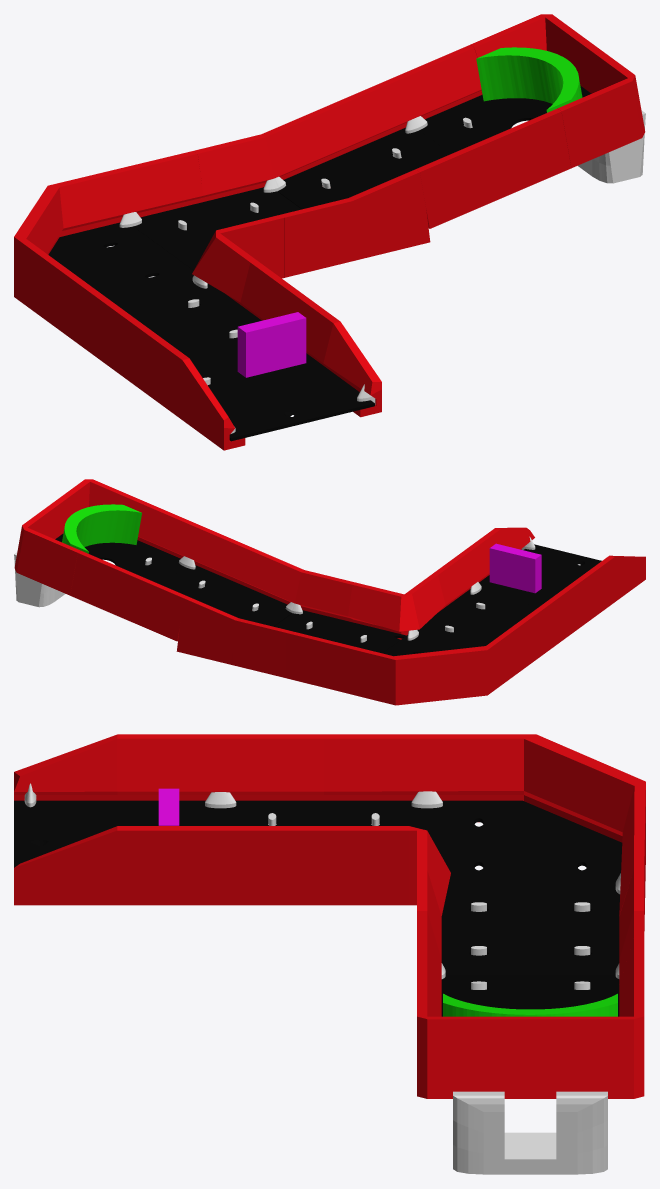
File: mikrogolf-rata4.fbx
3 renders of one model, top to bottom at view 1: azimuth 30°, elevation 25°; view 2: azimuth 150°, elevation 25°; view 3: azimuth 270°, elevation 25°, orthographic. The views are drawn at different scales.
Visible parts, largest first — view 1: Cube.224, Cube.235, Cube.216, Cube.218, Plane.106, Cube.228, Cube.215, Plane.108, Cube.222, Cube.217, Plane.107, Plane.109 (+7 smaller); view 2: Cube.224, Cube.215, Cube.228, Cube.216, Cube.235, Cube.218, Plane.107, Cube.225, Cube.221, Plane.109, Cube.217, Cube.219 (+7 smaller); view 3: Cube.224, Cube.217, Cube.218, Plane.104, Plane.108, Cube.254, Cube.221, Cube.222, Cube.225, Plane.106, Plane.109, Plane.107 (+6 smaller).
Part boxes in pixels (x1,y1,x2,y2): Cube.224: (14,151,203,358); Cube.235: (281,169,430,277); Cube.216: (416,108,571,228); Cube.218: (99,297,245,450); Plane.106: (195,353,374,441); Cube.228: (329,45,481,155); Cube.215: (194,105,344,203); Plane.108: (48,222,195,304); Cube.222: (557,45,645,168); Cube.217: (240,261,381,417); Plane.107: (116,283,261,365); Plane.109: (277,127,450,209); Cube.224: (286,601,551,705); Cube.215: (176,596,289,678); Cube.228: (70,550,187,641); Cube.216: (138,502,253,585); Cube.235: (241,548,355,622); Cube.218: (547,555,645,647); Plane.107: (407,589,538,648); Cube.225: (348,574,445,639); Cube.221: (14,502,80,595); Plane.109: (161,565,291,626); Cube.217: (433,527,534,612); Cube.219: (62,504,141,553); Cube.224: (324,734,645,930); Cube.217: (14,826,323,905); Cube.218: (14,734,323,800); Plane.104: (441,888,619,975); Plane.108: (427,800,622,887); Cube.254: (453,1091,607,1174); Cube.221: (530,989,644,1098); Cube.222: (417,989,530,1098); Cube.225: (324,826,450,915); Plane.106: (14,800,220,867); Plane.109: (441,975,619,1016); Plane.107: (220,800,427,830).
Size of the model in its own units: 41.82 by 7.54 by 30.59.
